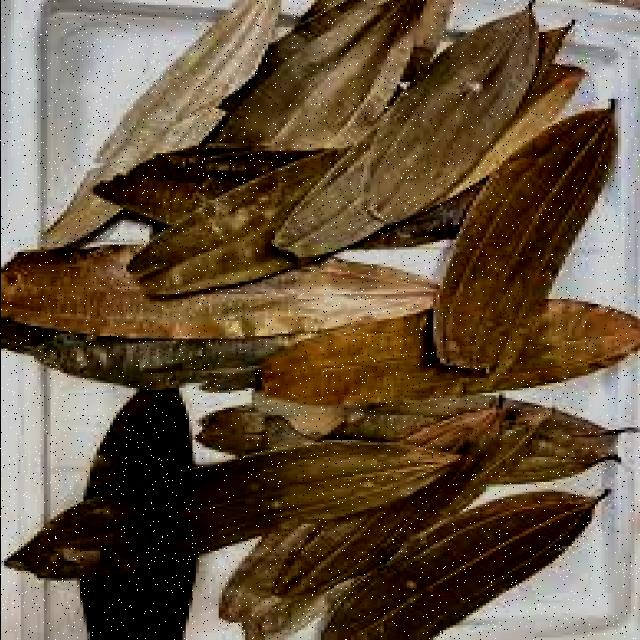Cinnamon: (92, 34, 544, 276), (0, 422, 477, 640), (0, 238, 482, 400)
